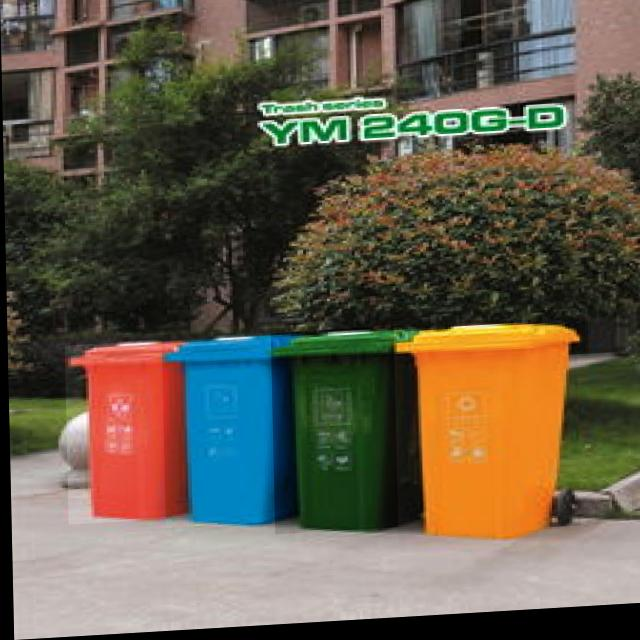garbage_bin: (392, 324, 578, 550), (269, 330, 418, 538), (160, 334, 306, 530), (63, 341, 186, 525)
